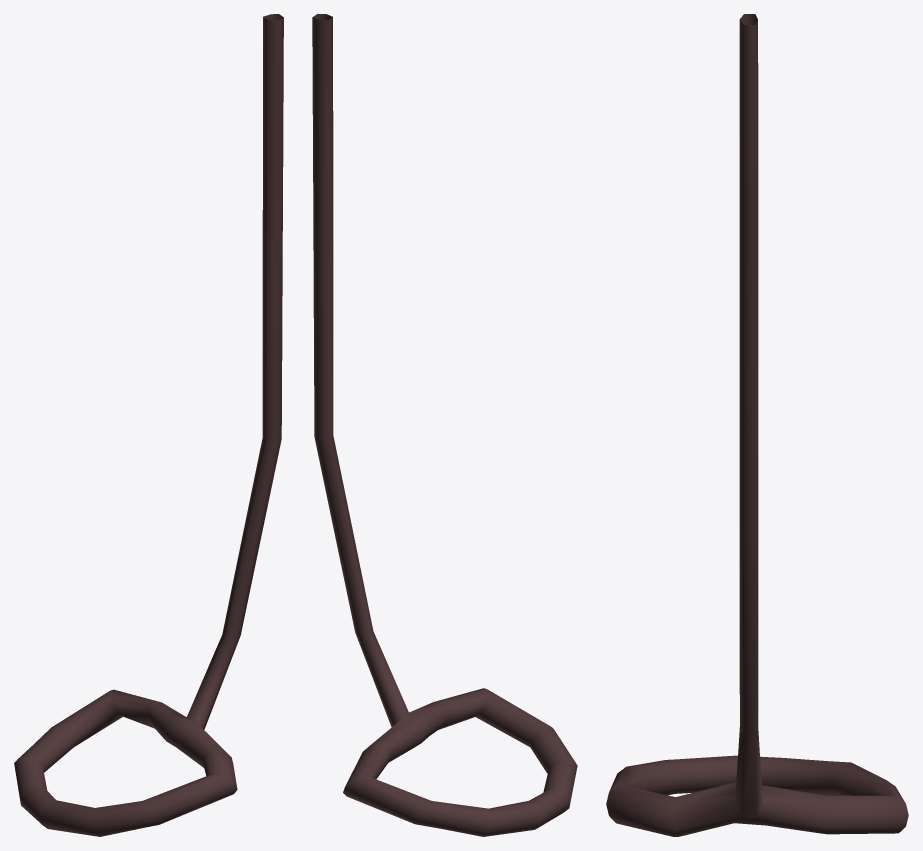
File: SM_BabyDoll_5_rope.fbx
The picture shows the model from 3 angles, left to right: view 1: azimuth 30°, elevation 25°; view 2: azimuth 150°, elevation 25°; view 3: azimuth 270°, elevation 25°; orthographic projection. The views are drawn at different scales.
Parts seen in each view (by area): view 1: SM_BabyDoll_5_rope; view 2: SM_BabyDoll_5_rope; view 3: SM_BabyDoll_5_rope.
Boxes of the visible parts, bbox=[...] form: SM_BabyDoll_5_rope: bbox=[14, 14, 283, 836]; SM_BabyDoll_5_rope: bbox=[312, 14, 577, 836]; SM_BabyDoll_5_rope: bbox=[606, 14, 908, 836].
Bounding box in the file's own units: 7.08 × 6.18 × 20.38.
1 material, 1 textured.
